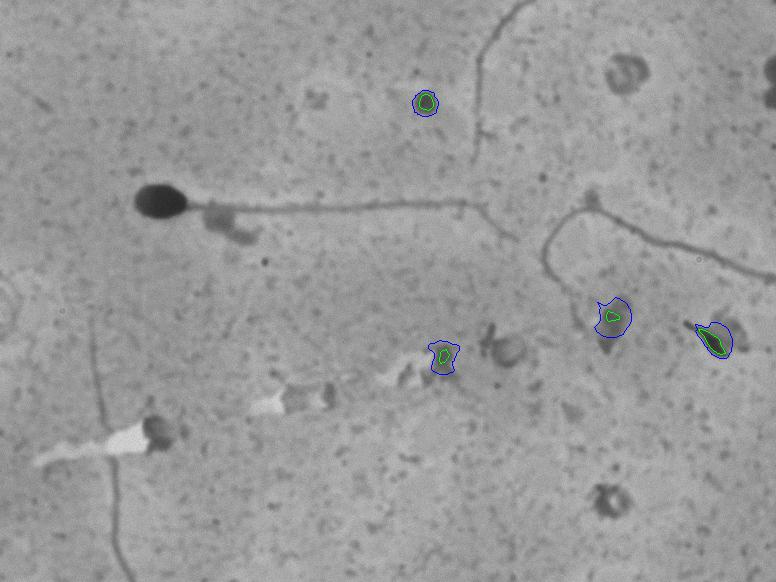Abnormal: (94, 148, 530, 311)
